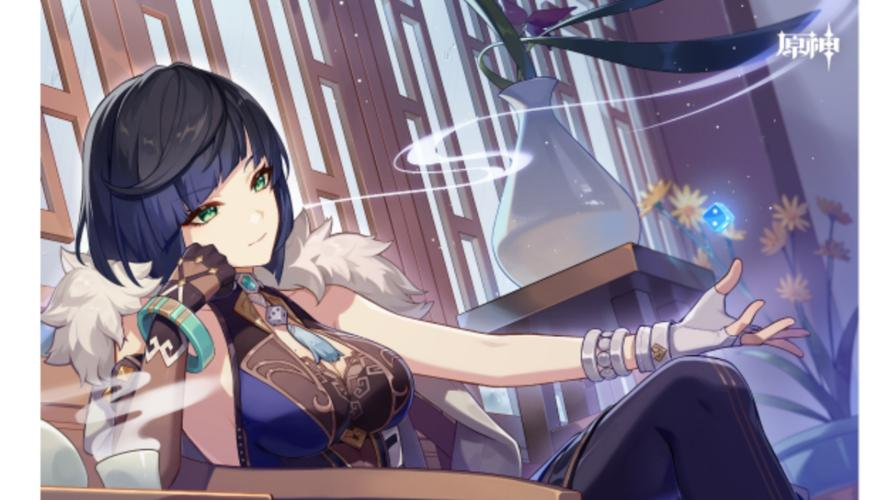夜兰: (76, 62, 816, 500)
